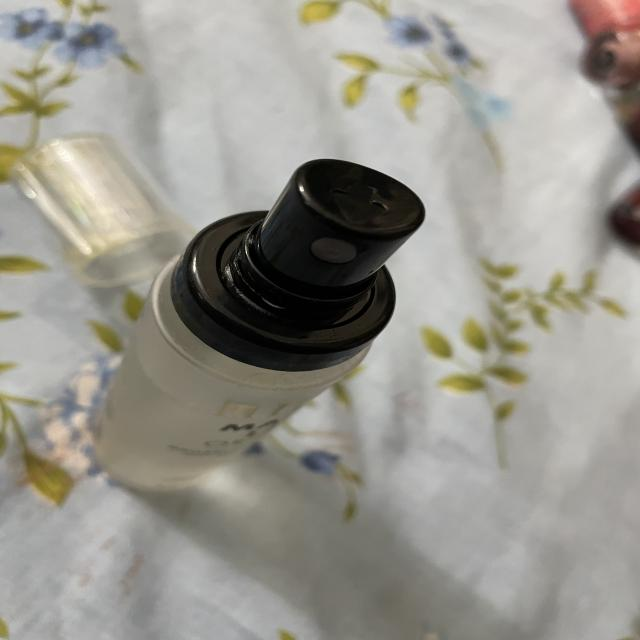setting spray: (72, 156, 466, 500)
